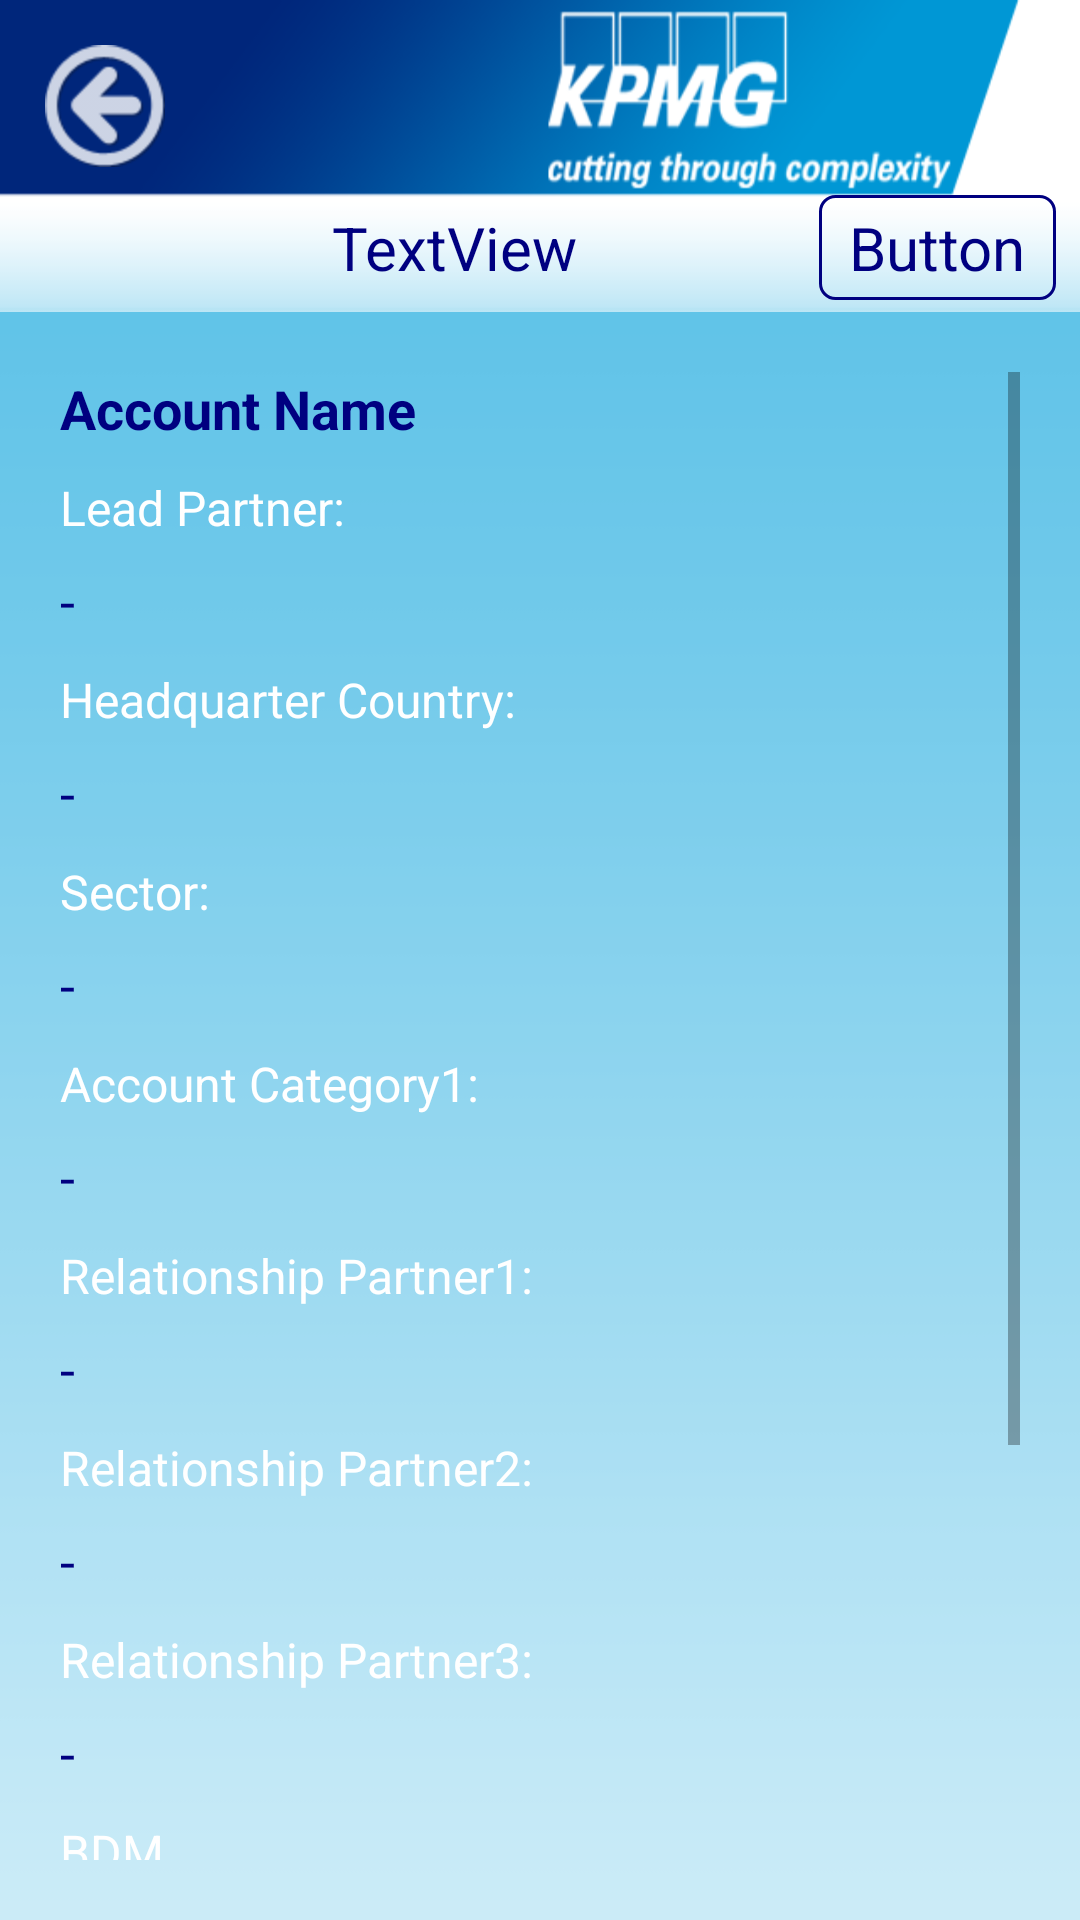

Icons on this 1080*1920 Android screen, each with the point to tap as [x,y]:
back: [105,106]
